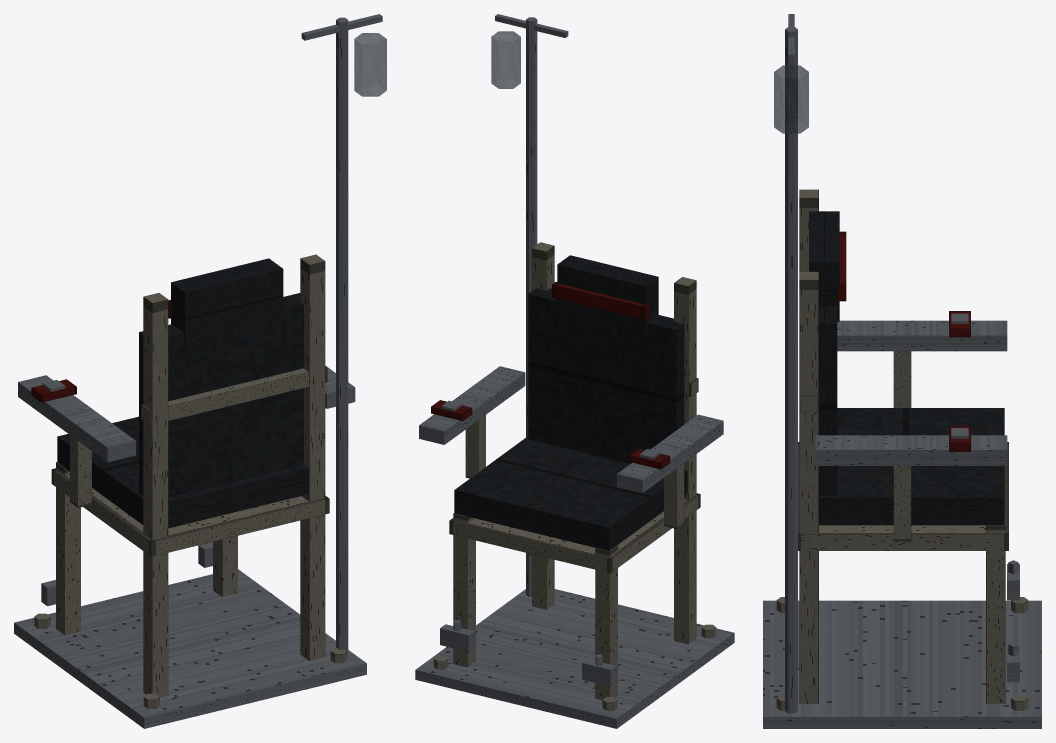
The model's file is restraint_chair_habitation_worn.glb.
3 renders of one model, left to right at view 1: azimuth 30°, elevation 25°; view 2: azimuth 150°, elevation 25°; view 3: azimuth 270°, elevation 25°, orthographic. The views are drawn at different scales.
Visible parts, largest first — view 1: restraint_chair_habitation_worn; view 2: restraint_chair_habitation_worn; view 3: restraint_chair_habitation_worn.
Boxes of the visible parts, <box> form: restraint_chair_habitation_worn: <box>14,14,386,728</box>; restraint_chair_habitation_worn: <box>415,14,734,728</box>; restraint_chair_habitation_worn: <box>763,14,1041,728</box>.
Bounding box in the file's own units: 0.7566 × 1.75 × 0.6375.
Materials: 5 (5 with a texture image).
